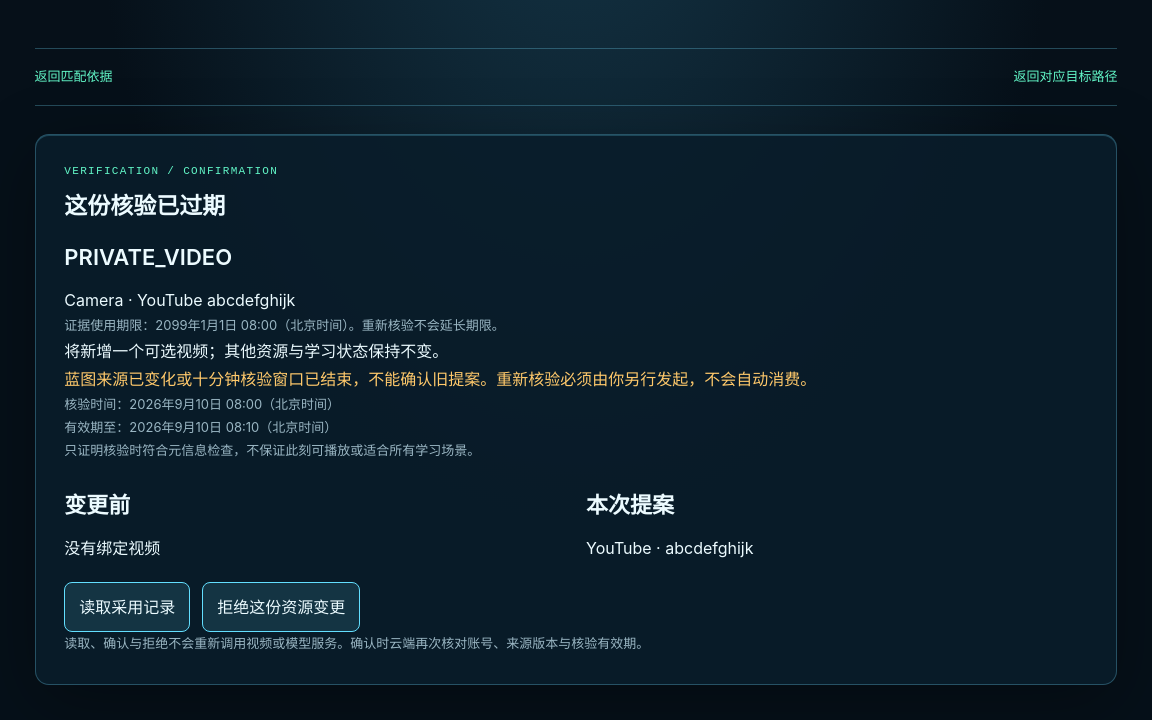
Test case: identity loss hides private proposal contents and stale records can be rejected but not applied
This screenshot has width=1152, height=720.
(page scrolled)
Check: the button "拒绝这份资源变更" is enabled, box [202,582,360,632]
Click the button "读取采用记录" at (127, 607), box [64,582,190,632]
(page scrolled)
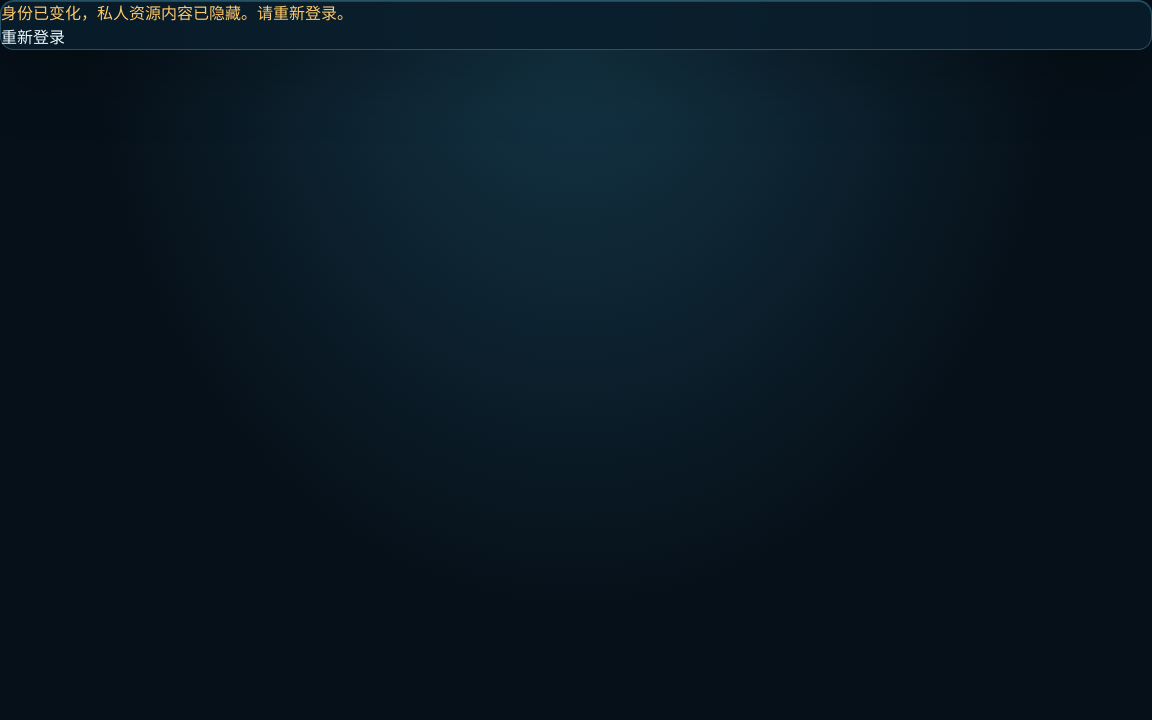
Check: the text "身份已变化" is shown, box [1,3,353,23]
